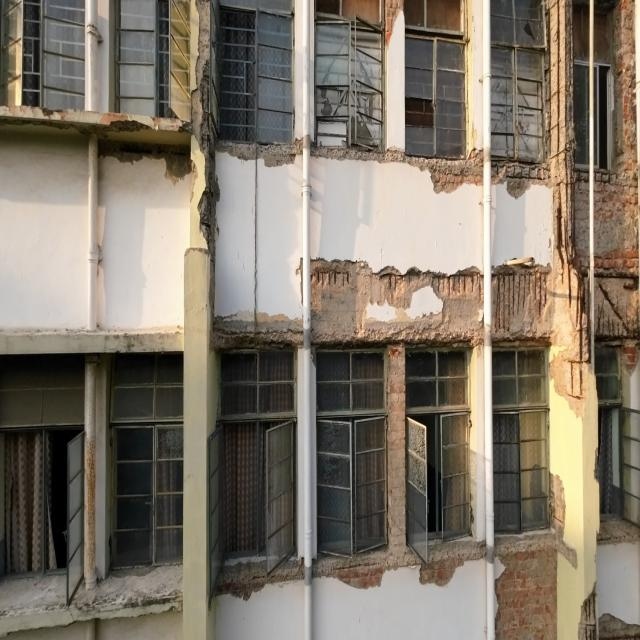Spalling: (191, 0, 220, 338), (500, 161, 549, 180)
exposed brickwork: (311, 258, 482, 344), (316, 537, 484, 588), (495, 533, 557, 639), (500, 530, 557, 638), (613, 0, 638, 231), (595, 148, 638, 280), (494, 265, 550, 343), (216, 561, 302, 600), (427, 161, 482, 193), (575, 171, 588, 270)
